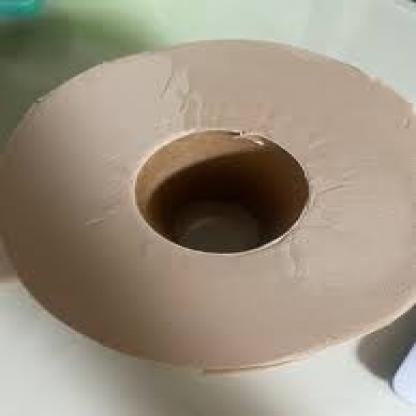tissue: (8, 19, 416, 387)
